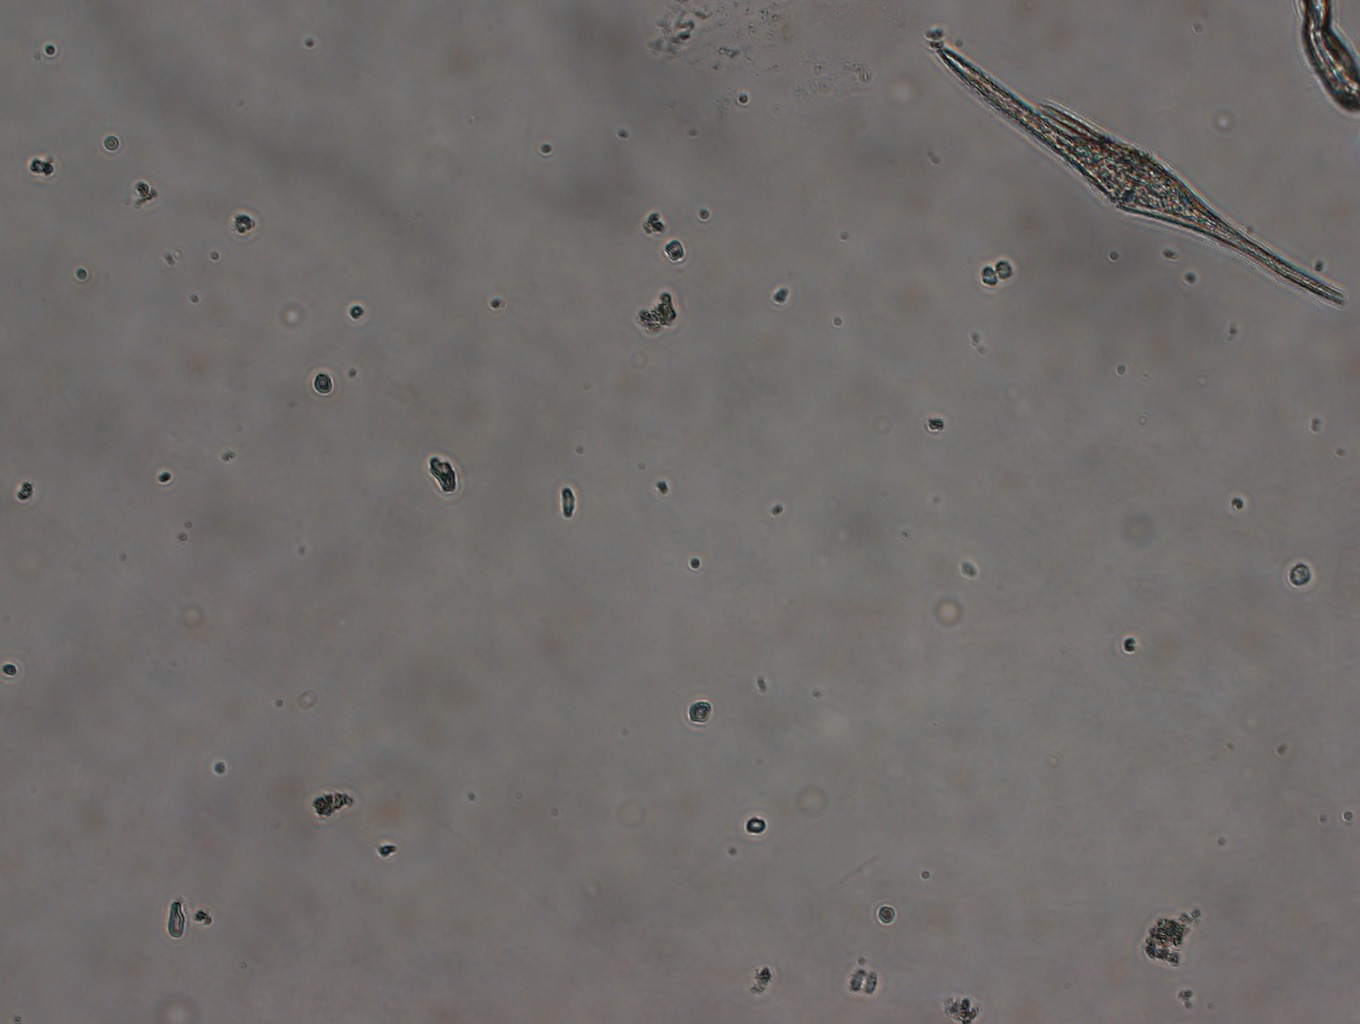ceratium furca: (926, 30, 1350, 319)
